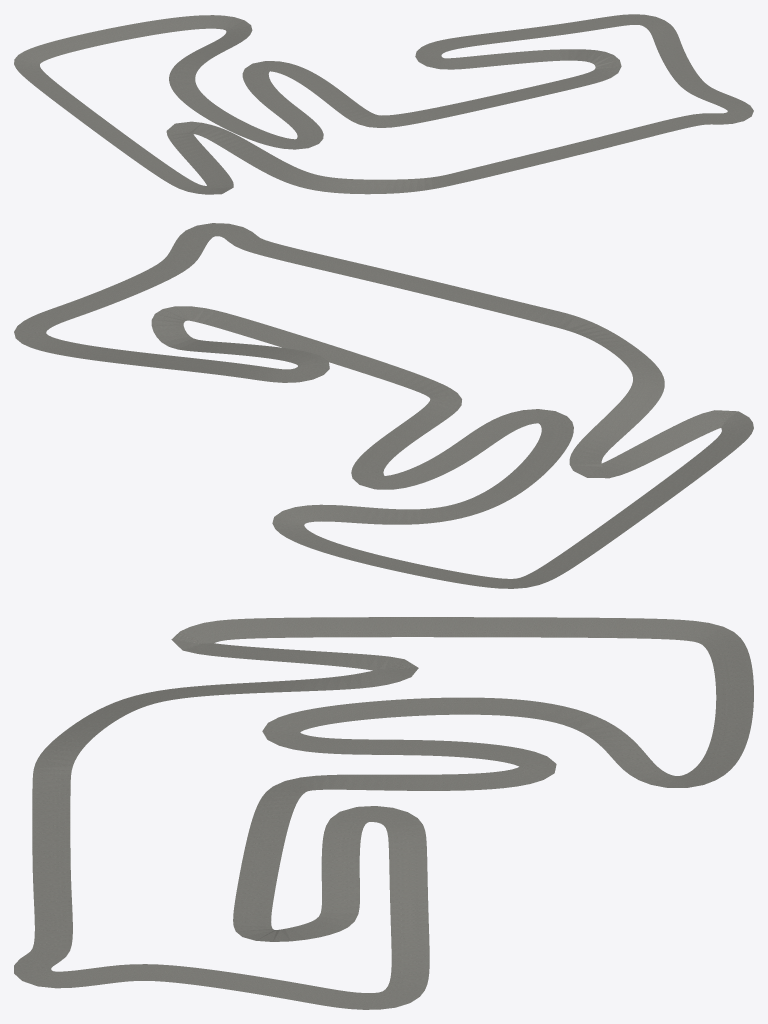
File: circuit.dae
3 renders of one model, top to bottom at view 1: azimuth 30°, elevation 25°; view 2: azimuth 150°, elevation 25°; view 3: azimuth 270°, elevation 25°, orthographic. The views are drawn at different scales.
Visible parts, largest first — view 1: Plane.001; view 2: Plane.001; view 3: Plane.001.
Part boxes in pixels (x1,y1,x2,y2): Plane.001: [14, 14, 753, 194]; Plane.001: [14, 223, 753, 588]; Plane.001: [14, 617, 753, 1009].
Bounding box in the file's own units: 124 × 100 × 5.
1 material, 1 textured.
